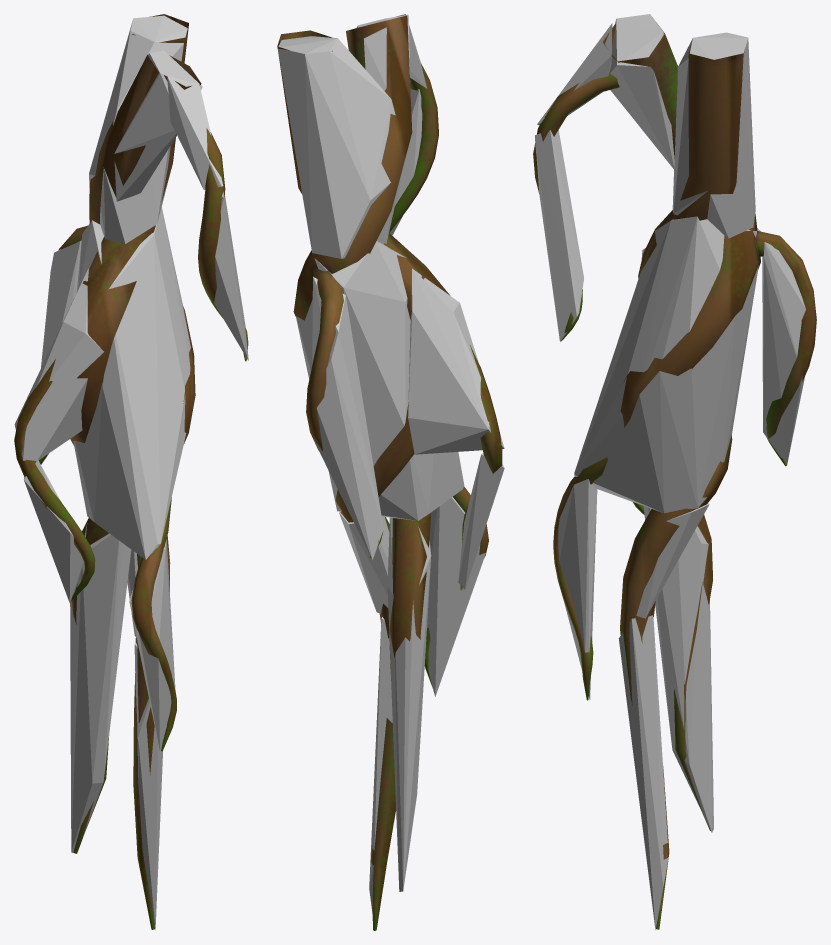
File: SM_SmallRoot_a.fbx
The picture shows the model from 3 angles, left to right: view 1: azimuth 30°, elevation 25°; view 2: azimuth 150°, elevation 25°; view 3: azimuth 270°, elevation 25°; orthographic projection. The views are drawn at different scales.
Visible parts, largest first — view 1: SM_SmallRoot_a_ConvexHulls, SM_SmallRoot_a; view 2: SM_SmallRoot_a_ConvexHulls, SM_SmallRoot_a; view 3: SM_SmallRoot_a_ConvexHulls, SM_SmallRoot_a.
Boxes of the visible parts, left/top/right/bottom form: SM_SmallRoot_a_ConvexHulls: left=14, top=15, right=248, bottom=930; SM_SmallRoot_a: left=14, top=14, right=248, bottom=929; SM_SmallRoot_a_ConvexHulls: left=278, top=14, right=504, bottom=913; SM_SmallRoot_a: left=277, top=15, right=502, bottom=930; SM_SmallRoot_a_ConvexHulls: left=535, top=14, right=805, bottom=929; SM_SmallRoot_a: left=533, top=22, right=816, bottom=929.
Bounding box in the file's own units: 102 × 126 × 447.
Materials: 2 (1 with a texture image).
